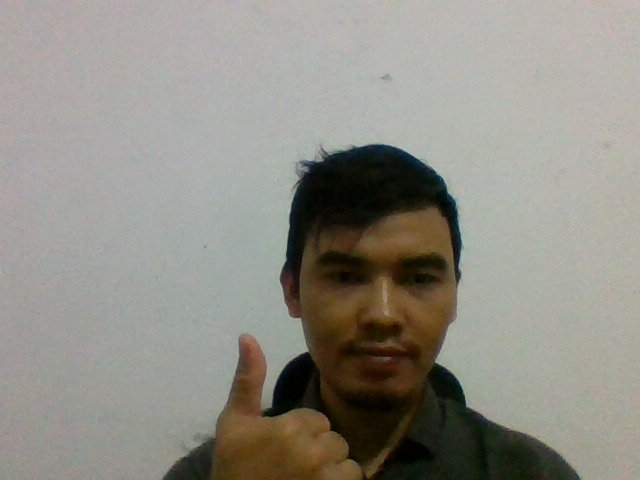hello: (193, 322, 378, 480)
